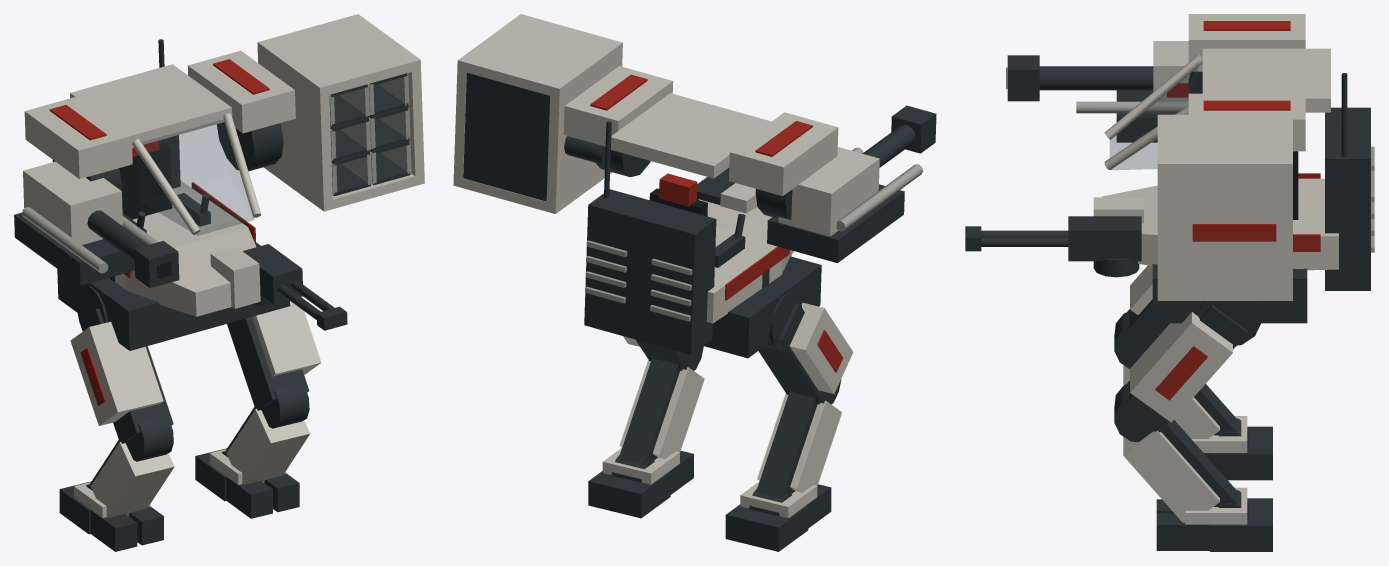
3 views of the same model, side by side, from view 1: azimuth 30°, elevation 25°; view 2: azimuth 150°, elevation 25°; view 3: azimuth 270°, elevation 25° (orthographic). The views are drawn at different scales.
Parts seen in each view (by area): view 1: mech-torso-painted, mech-silo-right-painted, mech-torso-glazing, mech-cannon-recoil-painted, mech-hip-0-painted, mech-hip-1-painted, mech-knee-0-painted, mech-knee-1-painted, mech-mg-pitch-chin-painted, mech-cannon-pitch-painted, mech-ankle-0-painted, mech-ankle-1-painted (+1 smaller); view 2: mech-torso-painted, mech-silo-right-painted, mech-cannon-recoil-painted, mech-hip-0-painted, mech-knee-1-painted, mech-knee-0-painted, mech-cannon-pitch-painted, mech-ankle-0-painted, mech-ankle-1-painted, mech-seat-pilot-painted, mech-mg-pitch-chin-painted, mech-hip-1-painted; view 3: mech-torso-painted, mech-silo-right-painted, mech-hip-1-painted, mech-knee-1-painted, mech-mg-pitch-chin-painted, mech-cannon-recoil-painted, mech-ankle-1-painted, mech-ankle-0-painted, mech-torso-glazing, mech-knee-0-painted, mech-cannon-pitch-painted, mech-hip-0-painted (+1 smaller).
Part boxes in pixels (x1,y1,x2,y2): mech-torso-painted: (24, 39, 295, 350); mech-silo-right-painted: (257, 14, 424, 211); mech-torso-glazing: (138, 119, 253, 235); mech-cannon-recoil-painted: (23, 161, 179, 288); mech-hip-0-painted: (70, 285, 173, 443); mech-hip-1-painted: (227, 301, 321, 410); mech-knee-0-painted: (89, 415, 174, 517); mech-knee-1-painted: (225, 382, 310, 484); mech-mg-pitch-chin-painted: (210, 244, 347, 330); mech-cannon-pitch-painted: (14, 207, 158, 285); mech-ankle-0-painted: (59, 481, 163, 551); mech-ankle-1-painted: (195, 448, 299, 518); mech-torso-painted: (563, 66, 838, 358); mech-silo-right-painted: (453, 14, 622, 213); mech-cannon-recoil-painted: (778, 105, 936, 236); mech-hip-0-painted: (758, 291, 853, 403); mech-knee-1-painted: (618, 346, 704, 465); mech-knee-0-painted: (756, 379, 841, 498); mech-cannon-pitch-painted: (767, 147, 923, 263); mech-ankle-0-painted: (725, 481, 831, 551); mech-ankle-1-painted: (588, 448, 693, 518); mech-seat-pilot-painted: (649, 173, 745, 267); mech-mg-pitch-chin-painted: (696, 168, 757, 213); mech-hip-1-painted: (623, 336, 695, 369); mech-torso-painted: (1101, 14, 1374, 323); mech-silo-right-painted: (1157, 114, 1292, 300); mech-hip-1-painted: (1122, 301, 1261, 432); mech-knee-1-painted: (1114, 383, 1237, 522); mech-mg-pitch-chin-painted: (965, 197, 1143, 261); mech-cannon-recoil-painted: (1006, 41, 1190, 101); mech-ankle-1-painted: (1156, 487, 1272, 551); mech-ankle-0-painted: (1191, 416, 1272, 480); mech-torso-glazing: (1110, 62, 1197, 169); mech-knee-0-painted: (1114, 311, 1237, 438); mech-cannon-pitch-painted: (1076, 90, 1188, 142); mech-hip-0-painted: (1122, 265, 1169, 352).
Bounding box in the file's own units: 22.28 × 24.39 × 20.04.
